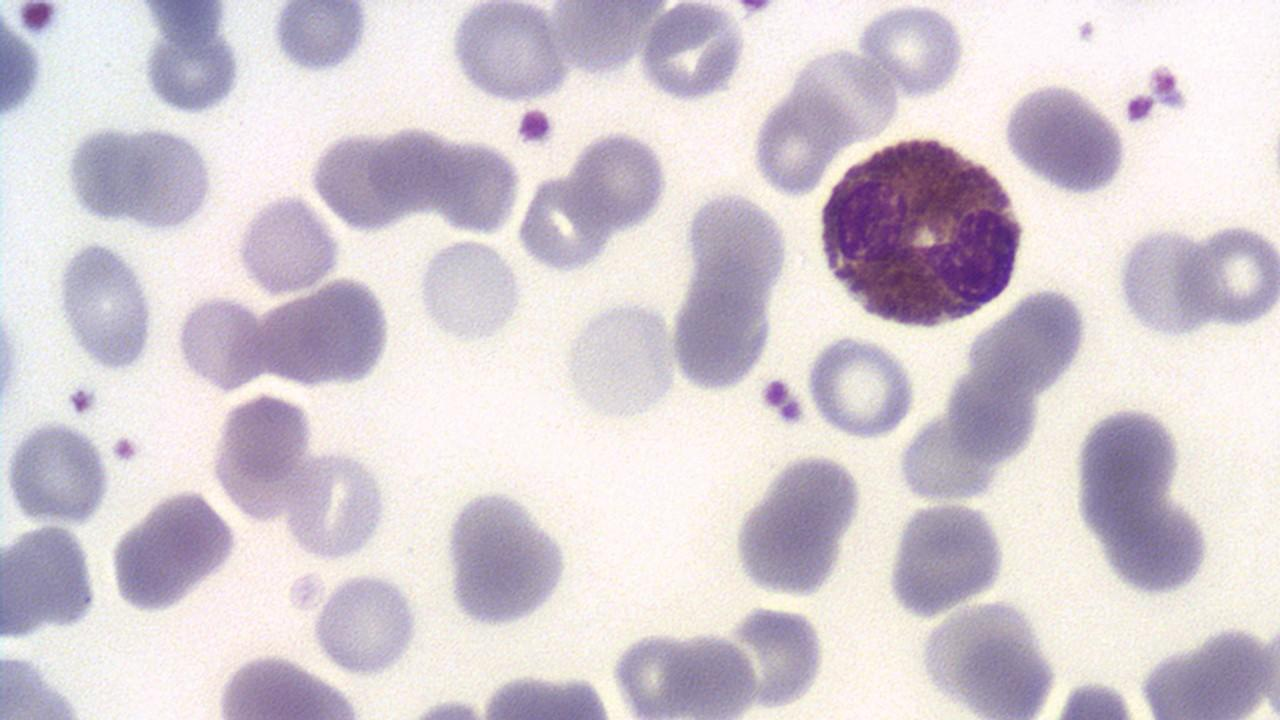Platelets: (438, 486, 576, 636), (138, 25, 249, 118), (0, 2, 48, 128), (0, 296, 24, 430), (758, 373, 805, 426), (509, 105, 560, 149), (1262, 108, 1280, 214), (1121, 89, 1159, 127), (64, 381, 99, 419), (108, 434, 143, 466), (732, 0, 780, 16)
RBC: (560, 295, 682, 426), (1001, 79, 1129, 199), (208, 390, 317, 524), (53, 235, 158, 373), (666, 270, 776, 398), (445, 2, 576, 105), (414, 234, 526, 348), (282, 447, 392, 562), (309, 568, 424, 678), (803, 334, 917, 442), (1116, 222, 1220, 340), (232, 192, 343, 298), (2, 420, 113, 526), (308, 126, 408, 236), (636, 4, 747, 103), (1181, 219, 1279, 331), (854, 3, 968, 98), (119, 124, 216, 235), (568, 128, 670, 233), (789, 46, 898, 142), (140, 22, 246, 120), (173, 292, 270, 394), (433, 135, 522, 234), (61, 122, 144, 227), (367, 121, 448, 220), (1, 279, 25, 439)
WBC: (696, 17, 1280, 720), (4, 0, 811, 420), (812, 128, 1027, 335), (726, 447, 864, 603), (436, 482, 576, 634), (107, 484, 240, 617), (285, 128, 439, 233), (881, 498, 1012, 620), (667, 261, 780, 398), (54, 234, 161, 372), (446, 2, 580, 106), (0, 519, 103, 641), (124, 124, 220, 235), (62, 120, 144, 227), (267, 1, 376, 77), (0, 1, 48, 136)
